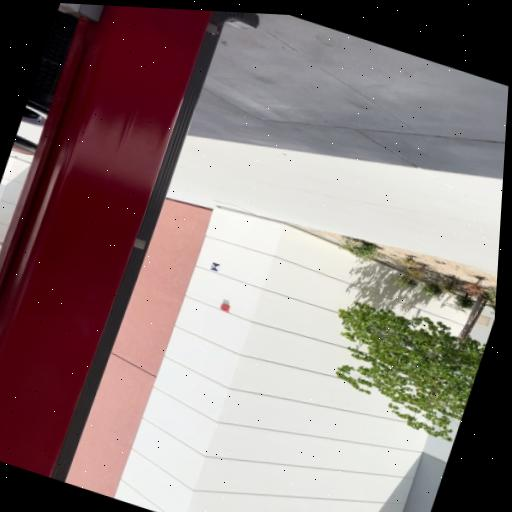target6: (209, 261, 220, 271)
